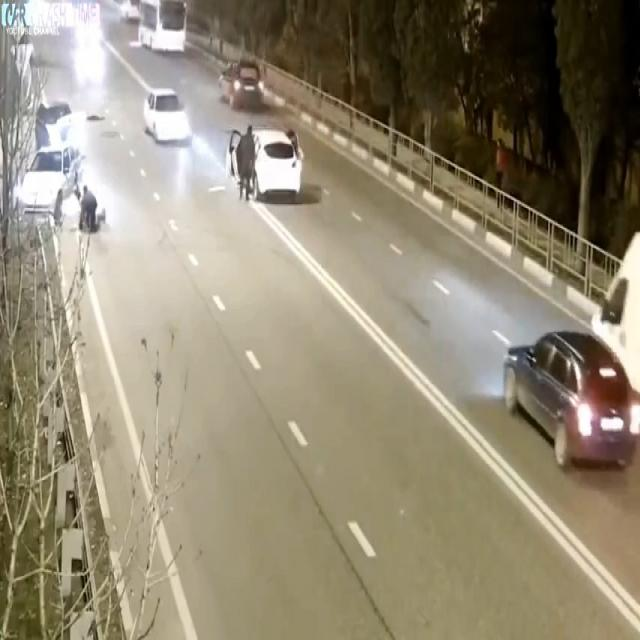Accident: (15, 82, 92, 222)
